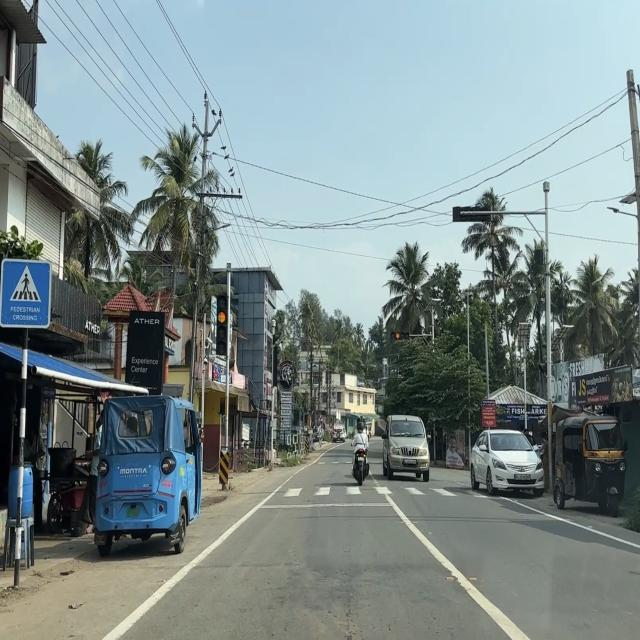PEDESTRIAN_CROSSING: (0, 258, 53, 329)
